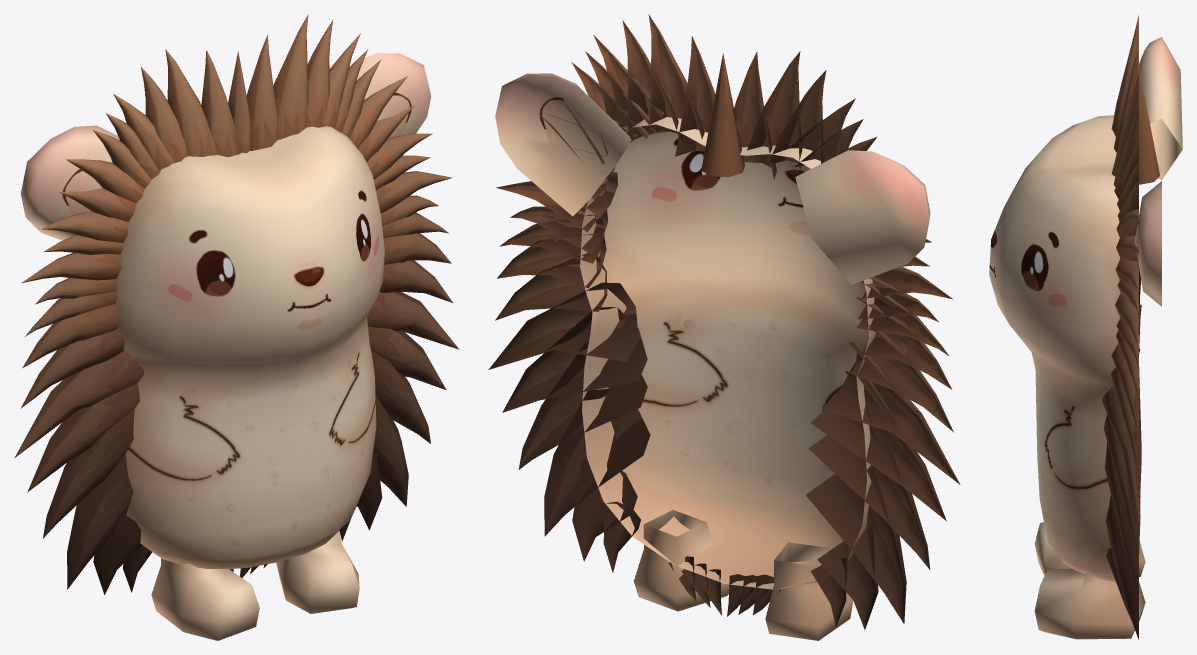
The model's file is Landak_texture.fbx.
3 views of the same model, side by side, from view 1: azimuth 30°, elevation 25°; view 2: azimuth 150°, elevation 25°; view 3: azimuth 270°, elevation 25° (orthographic). The views are drawn at different scales.
Visible parts, largest first — view 1: body, duri; view 2: body, duri; view 3: body, duri.
Boxes of the visible parts, box(x1,y1,x2,y2) form: body: box(20, 53, 431, 640); duri: box(14, 14, 459, 594); body: box(495, 73, 930, 640); duri: box(488, 14, 960, 629); body: box(989, 37, 1182, 639); duri: box(1102, 15, 1159, 639).
Bounding box in the file's own units: 300 × 360 × 115.
